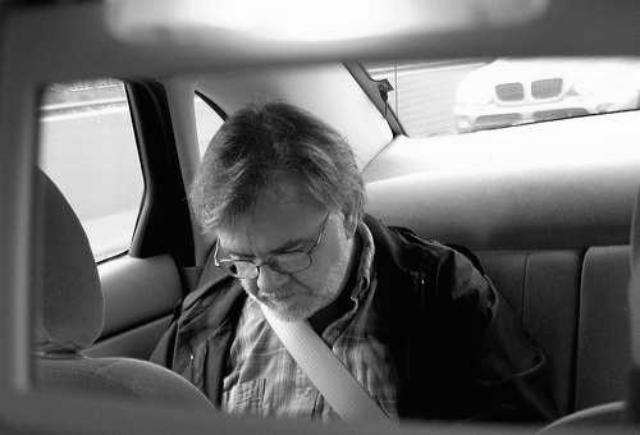Seatbelt: (256, 295, 394, 423)
